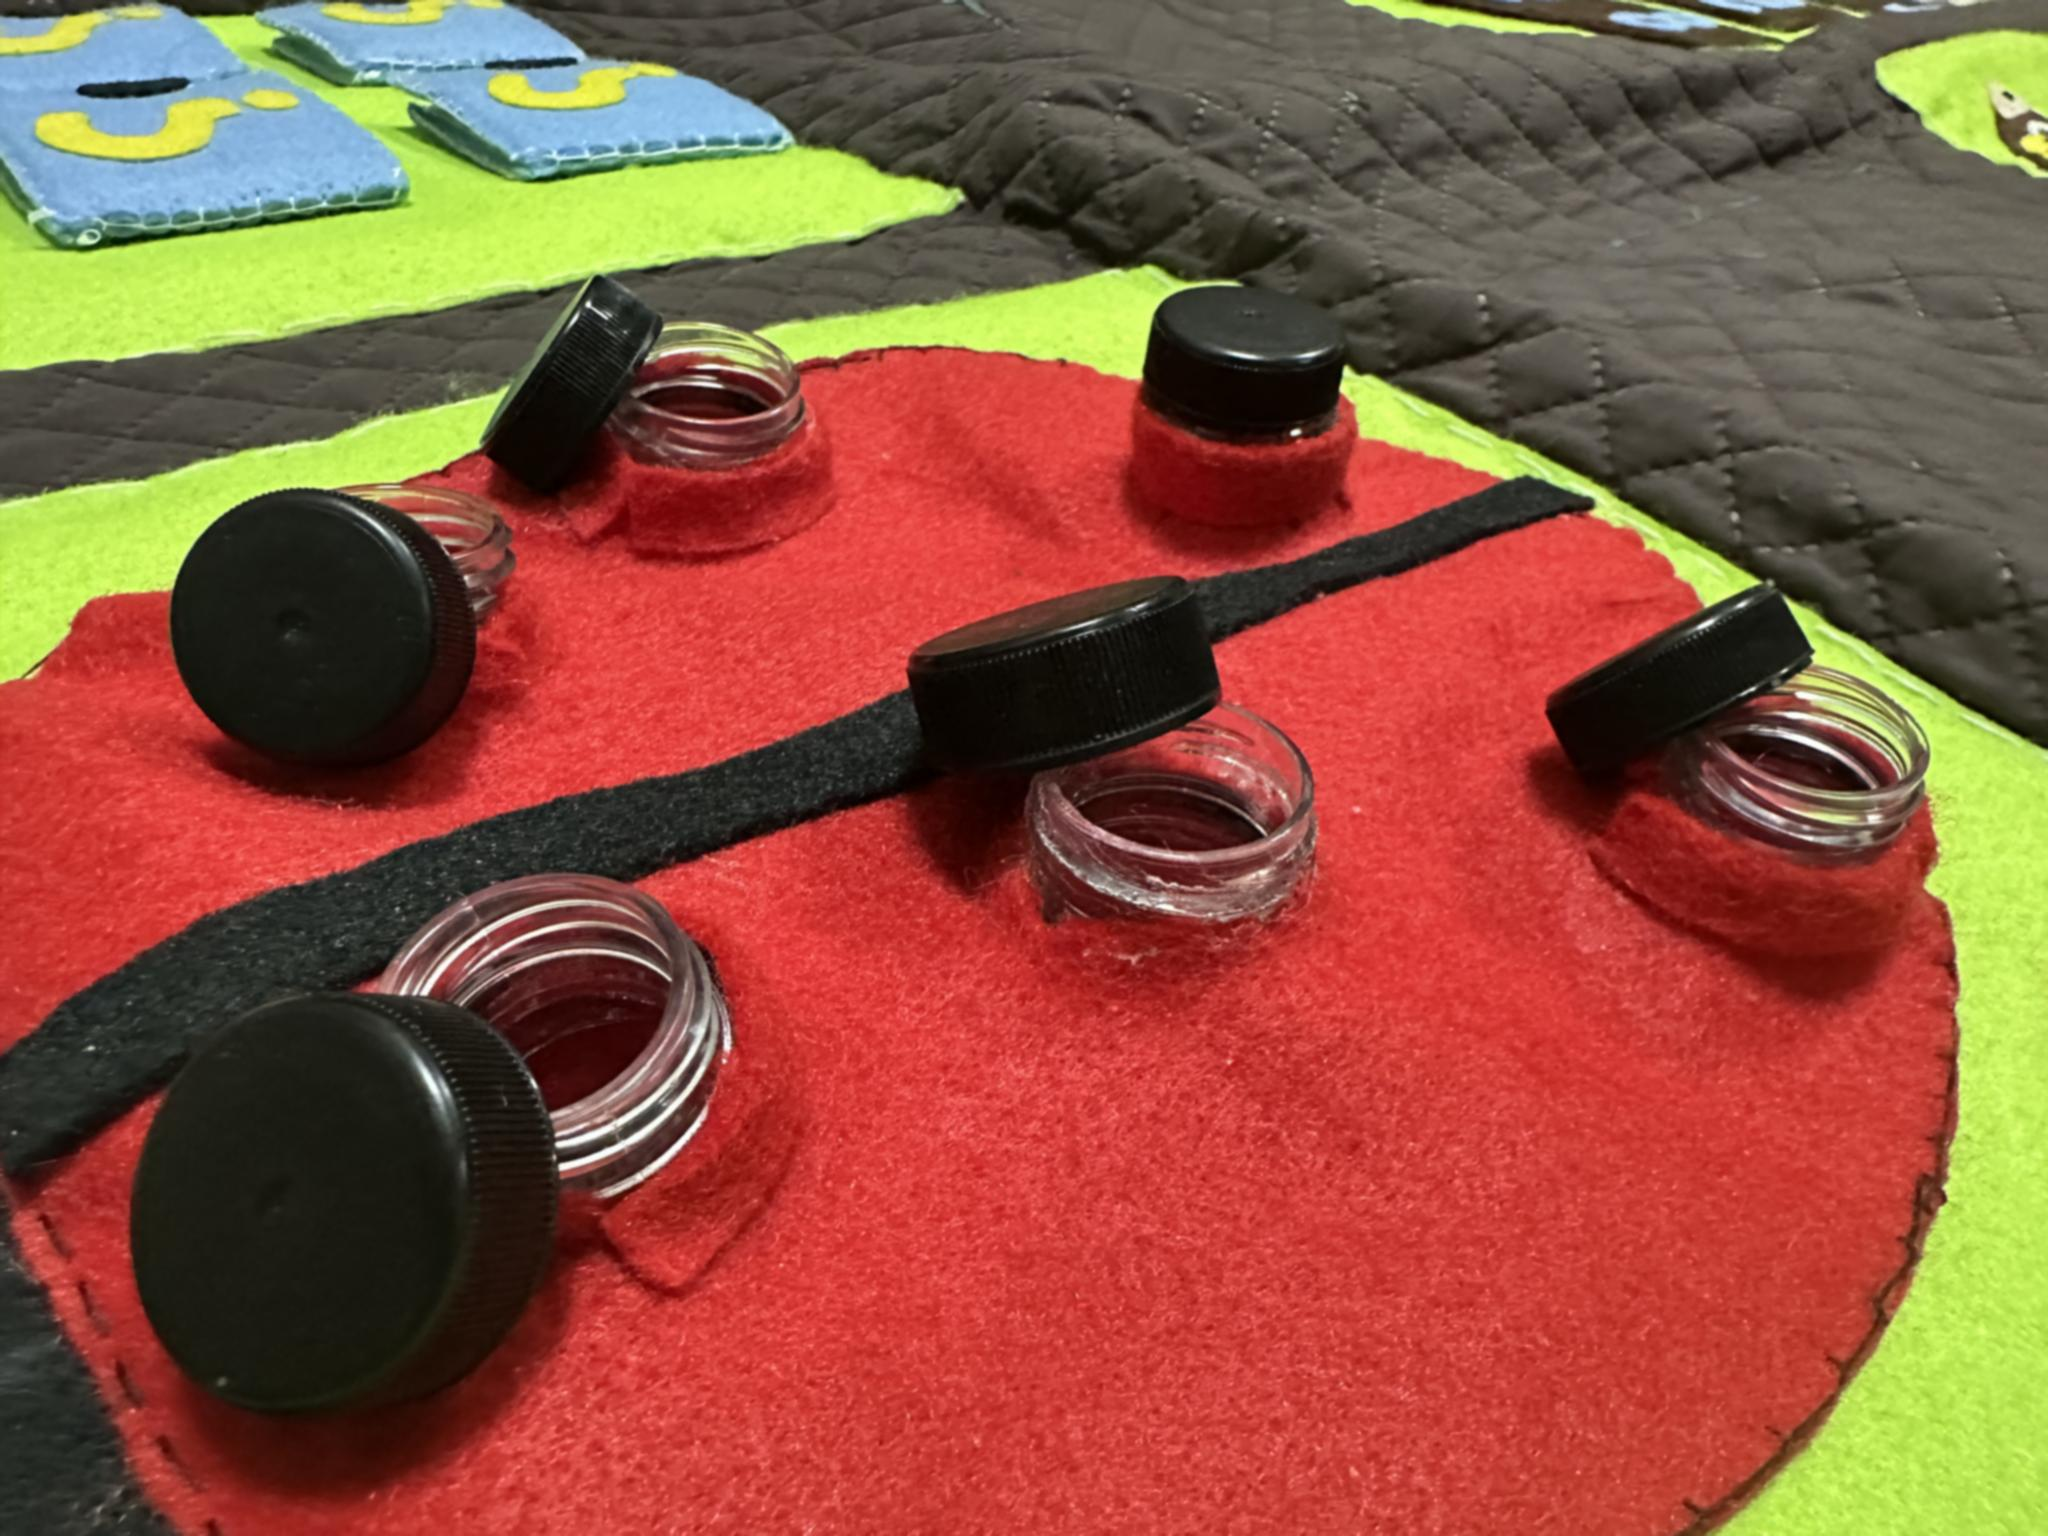cap_ng: (116, 857, 760, 1442), (882, 557, 1395, 976), (1522, 558, 1972, 957), (171, 463, 524, 802), (482, 269, 826, 547)
cap_ok: (1100, 286, 1367, 545)
